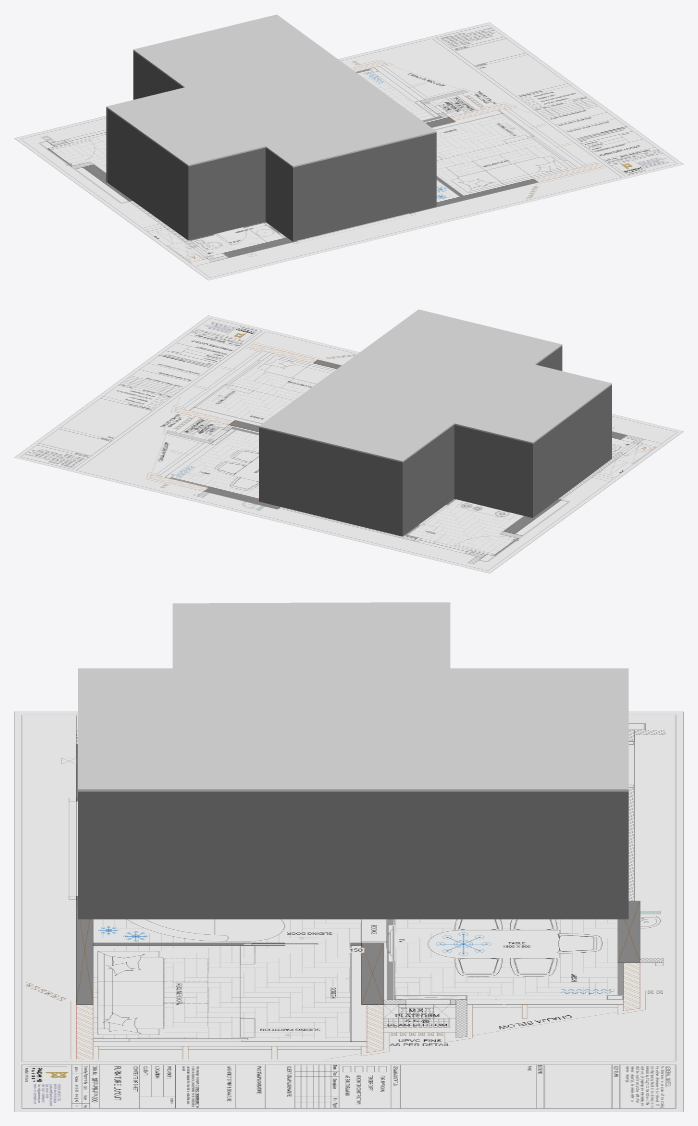
Rendered from door.glb.
The picture shows the model from 3 angles, top to bottom: view 1: azimuth 30°, elevation 25°; view 2: azimuth 150°, elevation 25°; view 3: azimuth 270°, elevation 25°; orthographic projection. The views are drawn at different scales.
Size of the model in its own units: 18.44 by 2.79 by 13.04.
Materials: 7 (1 with a texture image).
